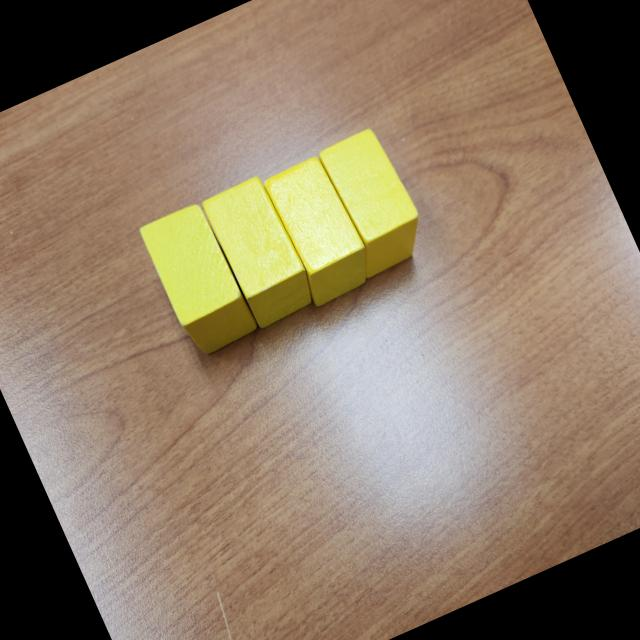yellow: (309, 122, 436, 282), (138, 199, 261, 361), (199, 173, 322, 333), (259, 153, 380, 310)
